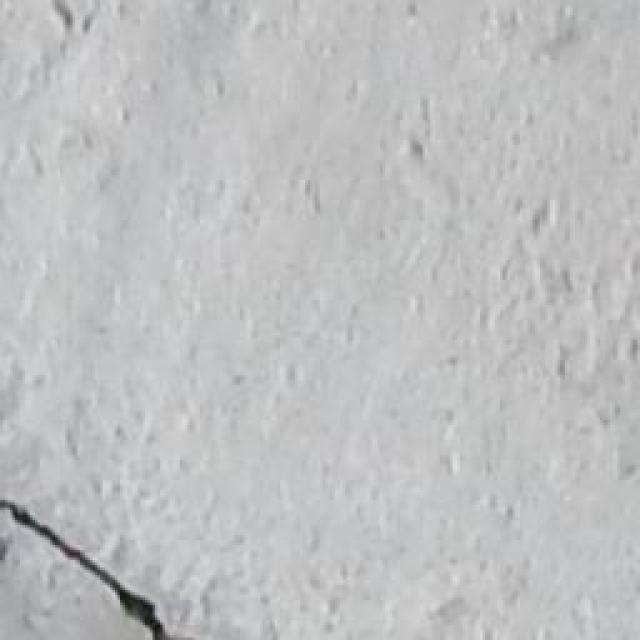concrete-crack: (4, 493, 175, 640)
